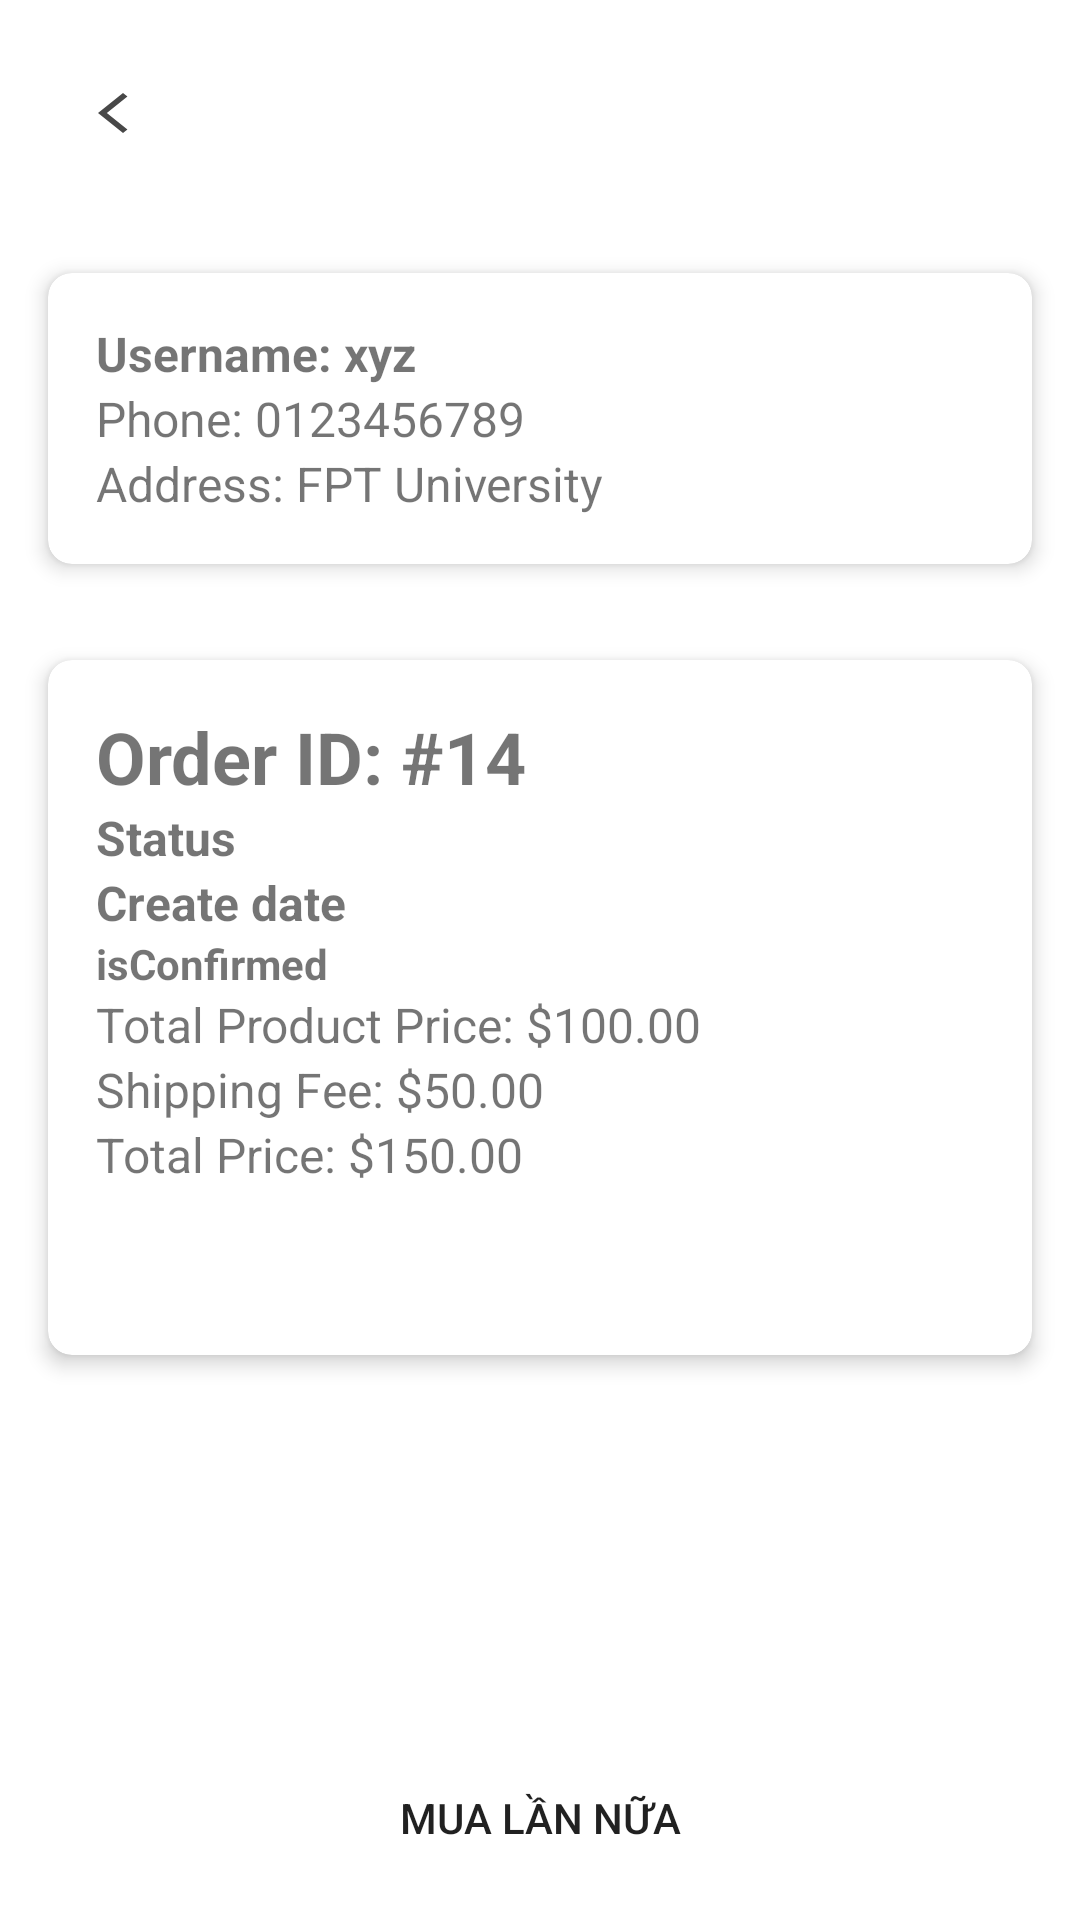

Point at icon controls on the screen. Image size 1080w x 1920h, points as [x,y].
back: [112,113]
